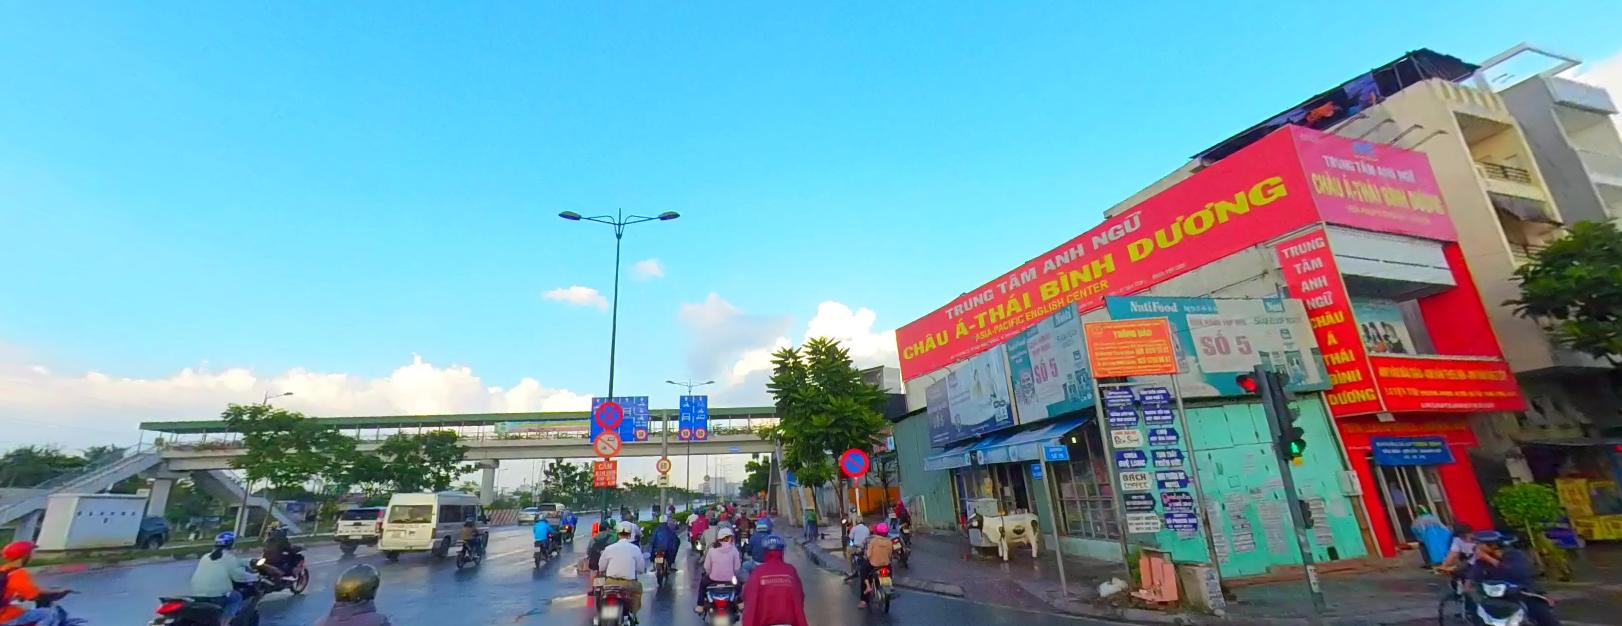Cam con lai: (589, 428, 624, 456)
Cam dung va do: (838, 446, 869, 477), (593, 398, 624, 427)
Gioi han toc do: (654, 456, 671, 472), (694, 426, 705, 438), (635, 427, 647, 438), (680, 427, 691, 437)
